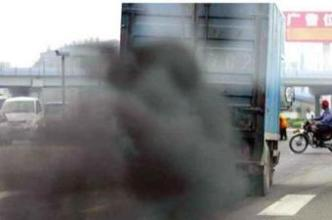smoke: (1, 37, 233, 220)
